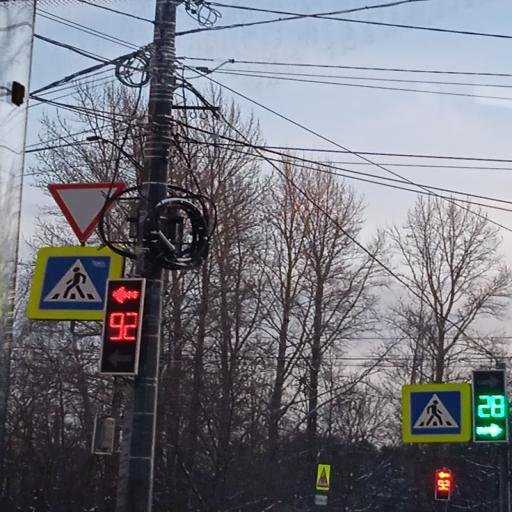phone: (126, 252, 162, 511)
table: (101, 279, 145, 375), (473, 369, 508, 442), (435, 469, 452, 499)
